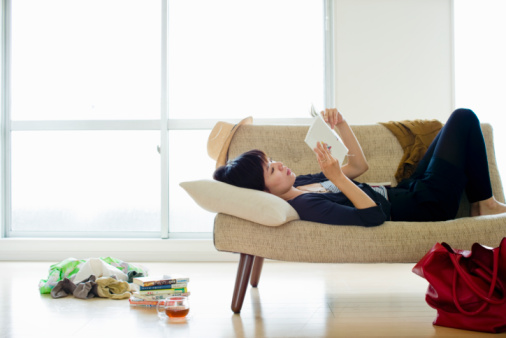deitado: (198, 127, 418, 230)
